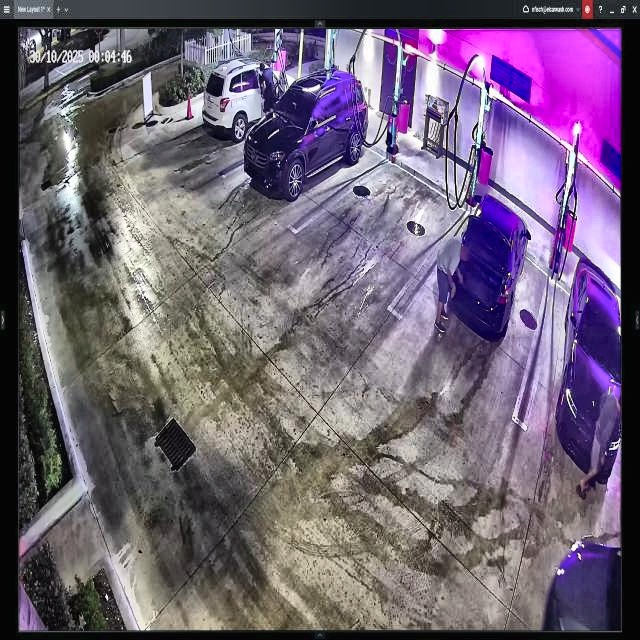Car: (242, 71, 368, 197), (454, 189, 530, 340)
